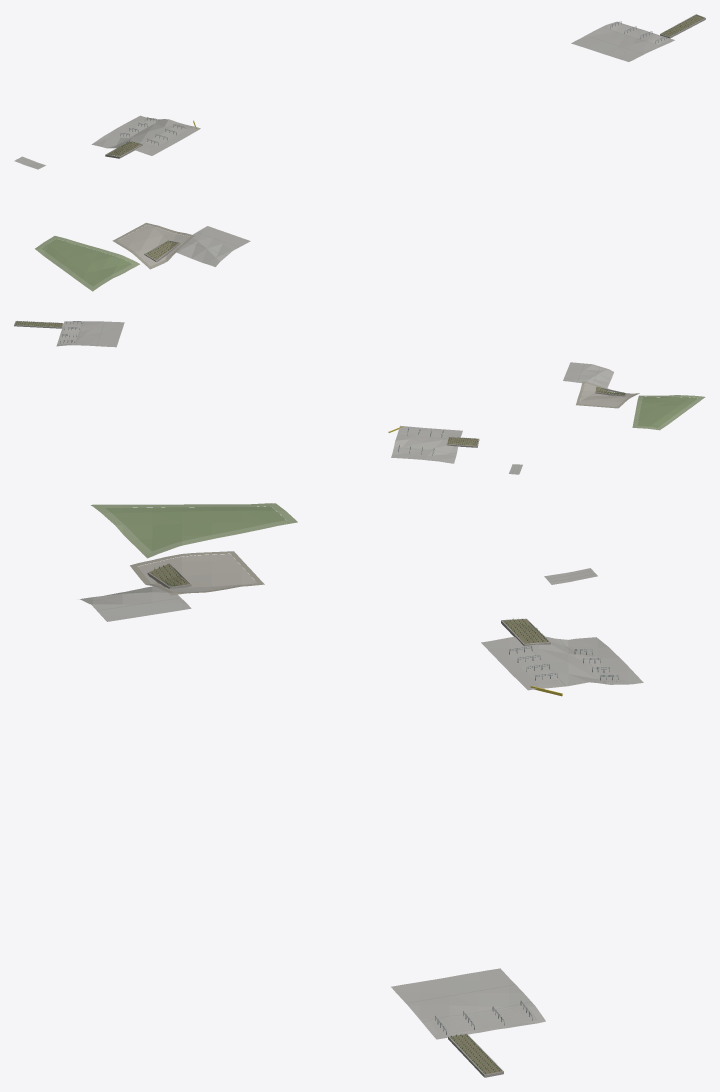
Rendered from frontage-ground.glb.
The picture shows the model from 3 angles, top to bottom: view 1: azimuth 30°, elevation 25°; view 2: azimuth 150°, elevation 25°; view 3: azimuth 270°, elevation 25°; orthographic projection. The views are drawn at different scales.
Parts seen in each view (by area): view 1: ford-arena-frontage-ground; view 2: ford-arena-frontage-ground; view 3: ford-arena-frontage-ground.
Boxes of the visible parts, box(x1,y1,x2,y2) form: ford-arena-frontage-ground: box(14, 14, 705, 291); ford-arena-frontage-ground: box(14, 321, 705, 474); ford-arena-frontage-ground: box(80, 503, 643, 1077).
Size of the model in its own units: 230 by 4.69 by 95.57.
